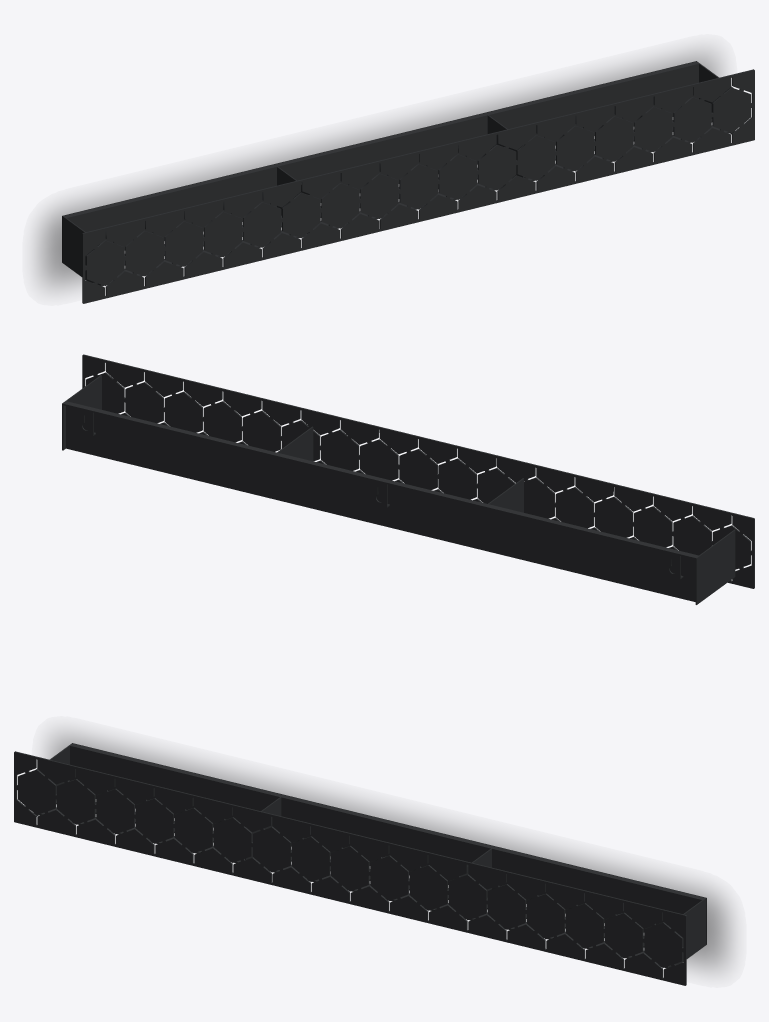
File: bee-mono.3c4d73f1b2.ar.glb
3 renders of one model, top to bottom at view 1: azimuth 30°, elevation 25°; view 2: azimuth 150°, elevation 25°; view 3: azimuth 330°, elevation 25°, orthographic.
Visible parts, largest first — view 1: NAUO1, object 2; view 2: NAUO1; view 3: NAUO1, object 2.
Part boxes in pixels (x1=…): NAUO1: x1=62, y1=61, x2=754, y2=303; object 2: x1=36, y1=51, x2=722, y2=288; NAUO1: x1=62, y1=354, x2=754, y2=604; NAUO1: x1=14, y1=743, x2=706, y2=985; object 2: x1=46, y1=733, x2=732, y2=970.
Bounding box in the file's own units: 0.98 × 0.17 × 0.092.
2 materials, 1 textured.
